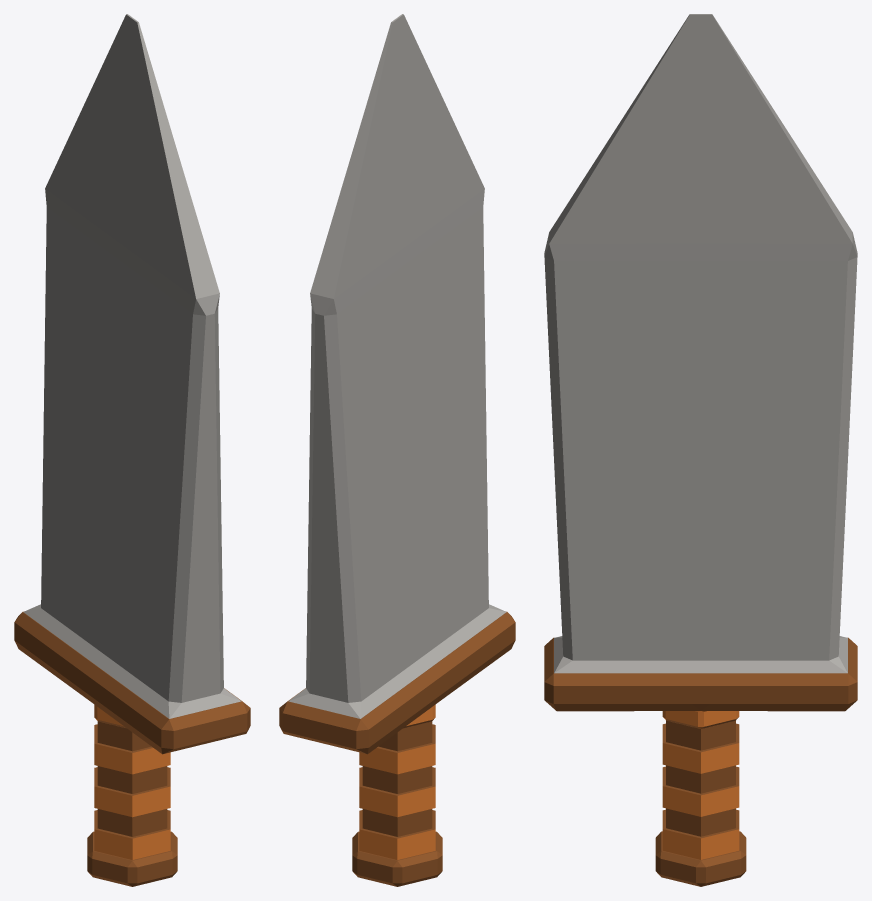
The model's file is ShortSword.fbx.
3 views of the same model, side by side, from view 1: azimuth 30°, elevation 25°; view 2: azimuth 150°, elevation 25°; view 3: azimuth 270°, elevation 25° (orthographic).
Visible parts, largest first — view 1: Cube; view 2: Cube; view 3: Cube.
Part boxes in pixels (<box>): Cube: <box>14,14,250,886</box>; Cube: <box>279,14,515,886</box>; Cube: <box>544,14,857,886</box>.
Size of the model in its own units: 200 by 1816 by 605.
